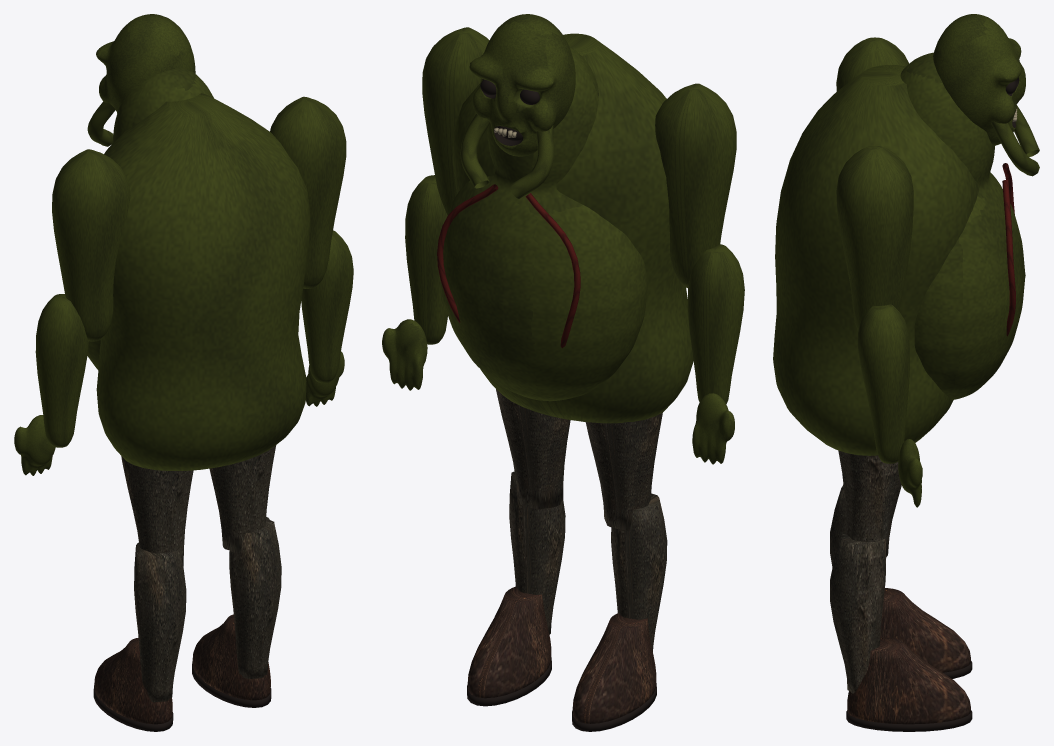
Rendered from spitter.glb.
3 views of the same model, side by side, from view 1: azimuth 30°, elevation 25°; view 2: azimuth 150°, elevation 25°; view 3: azimuth 270°, elevation 25° (orthographic). The views are drawn at different scales.
Visible parts, largest first — view 1: body_Bilious tissue.003, Rounded sloping deltoid, Rounded sloping deltoid.001, Calf, Calf.001, Forearm, Gaunt unified face, Forearm.001, Thigh, Thigh.001, Boot, Boot.001 (+5 smaller); view 2: body_Bilious tissue.003, Rounded sloping deltoid, Gaunt unified face, Forearm, Boot, Boot.001, Rounded sloping deltoid.001, Thigh, Calf, Thigh.001, Forearm.001, Calf.001 (+7 smaller); view 3: body_Bilious tissue.003, Rounded sloping deltoid.001, Gaunt unified face, Boot.001, Calf.001, Forearm.001, Thigh.001, Boot, Rounded sloping deltoid, head_Bilious tissue.003, body_Striated exposed muscle.003, Sculpted hand.001 (+2 smaller).
Part boxes in pixels (box(x1,y1,x2,y2)): body_Bilious tissue.003: box(87, 68, 310, 470); Rounded sloping deltoid: box(52, 149, 130, 341); Rounded sloping deltoid.001: box(270, 96, 346, 288); Calf: box(134, 542, 186, 702); Calf.001: box(229, 517, 281, 678); Forearm: box(35, 294, 88, 447); Gaunt unified face: box(96, 14, 195, 113); Forearm.001: box(301, 230, 353, 383); Thigh: box(121, 456, 193, 566); Thigh.001: box(209, 445, 276, 553); Boot: box(94, 637, 172, 724); Boot.001: box(192, 614, 270, 700); body_Bilious tissue.003: box(440, 33, 693, 423); Rounded sloping deltoid: box(655, 83, 736, 287); Gaunt unified face: box(469, 14, 575, 156); Forearm: box(687, 244, 744, 404); Boot: box(572, 613, 656, 723); Boot.001: box(467, 586, 551, 698); Rounded sloping deltoid.001: box(422, 27, 489, 214); Thigh: box(585, 412, 662, 530); Calf: box(611, 493, 667, 651); Thigh.001: box(496, 389, 570, 509); Forearm.001: box(405, 175, 447, 344); Calf.001: box(509, 471, 565, 634); body_Bilious tissue.003: box(773, 52, 1025, 455); Rounded sloping deltoid.001: box(836, 145, 913, 331); Gaunt unified face: box(933, 14, 1025, 145); Boot.001: box(847, 637, 970, 724); Calf.001: box(830, 530, 885, 693); Forearm.001: box(857, 304, 909, 463); Thigh.001: box(838, 450, 901, 557); Boot: box(880, 588, 970, 672); Rounded sloping deltoid: box(836, 37, 909, 91); head_Bilious tissue.003: box(991, 105, 1039, 176); body_Striated exposed muscle.003: box(1002, 163, 1015, 336); Sculpted hand.001: box(898, 439, 922, 507).
Bounding box in the file's own units: 0.87 × 1.66 × 0.5935.
Materials: 7 (5 with a texture image).
